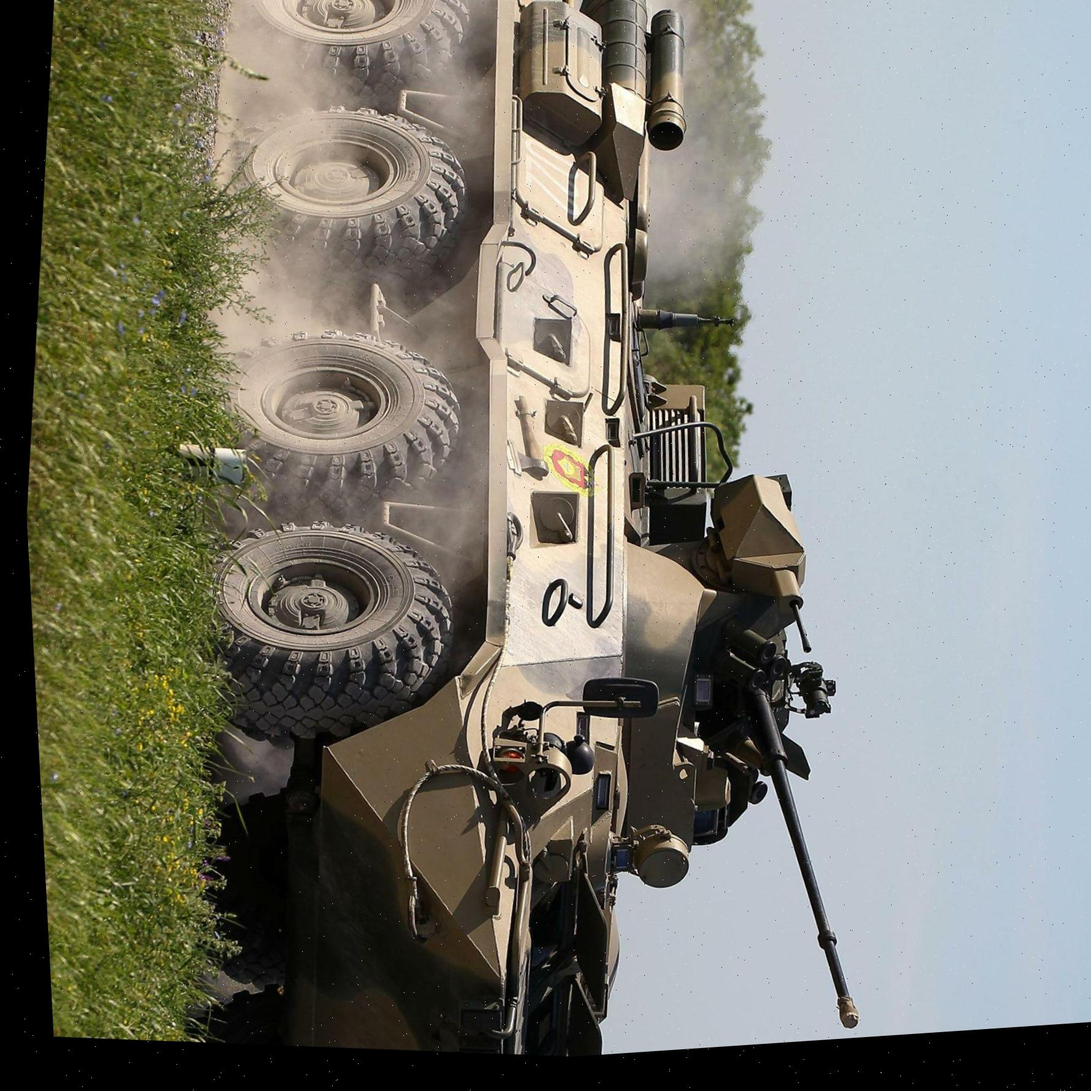tank: (111, 0, 981, 1084)
